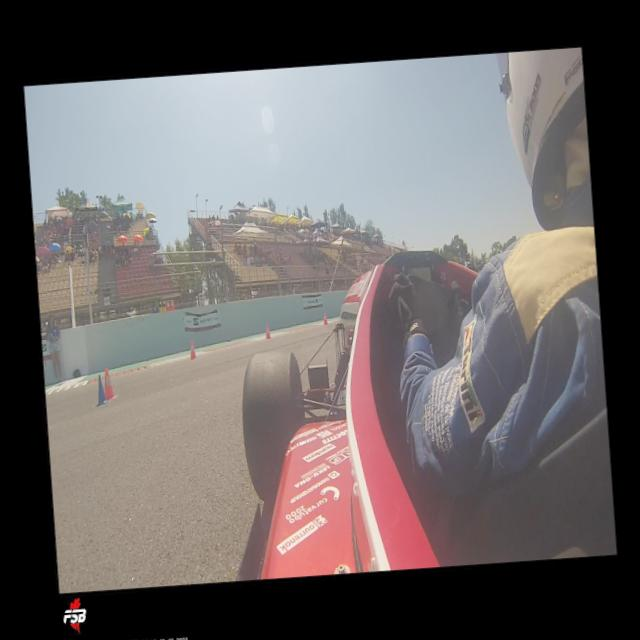orange_cone: (103, 367, 118, 401), (188, 340, 198, 360), (264, 322, 272, 340), (322, 312, 328, 326), (170, 298, 174, 310), (166, 298, 170, 310)
unknown_cone: (92, 373, 110, 408), (154, 300, 158, 312), (150, 302, 154, 312)
yellow_cone: (162, 300, 166, 312), (158, 300, 162, 312)
